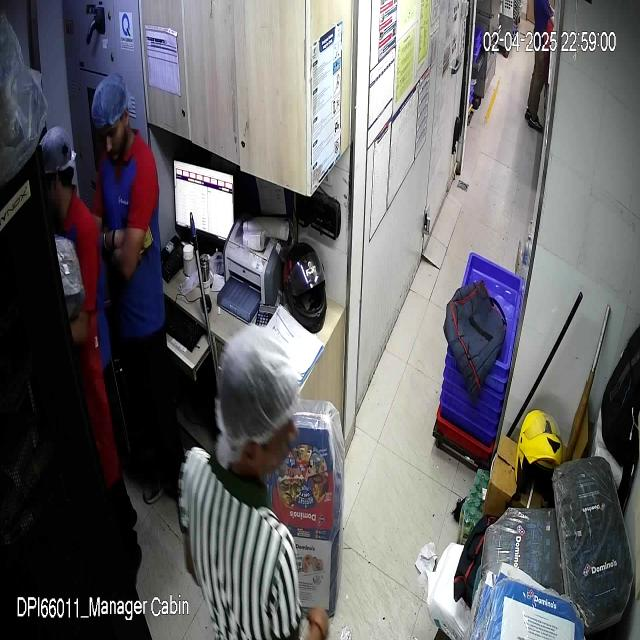helmet: (514, 410, 564, 506), (283, 242, 327, 332)
no_helmet: (213, 322, 298, 480), (90, 71, 132, 163)
